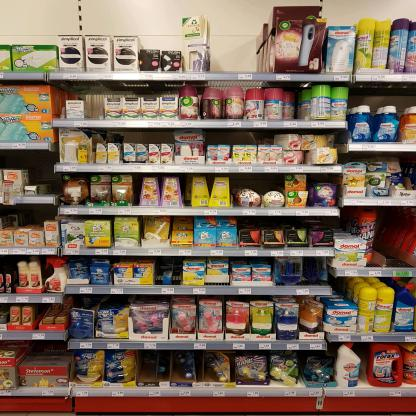Void: (380, 210, 406, 266), (29, 146, 55, 183), (210, 129, 277, 143), (238, 173, 283, 189), (124, 131, 170, 143), (18, 203, 43, 223), (310, 173, 336, 183)
